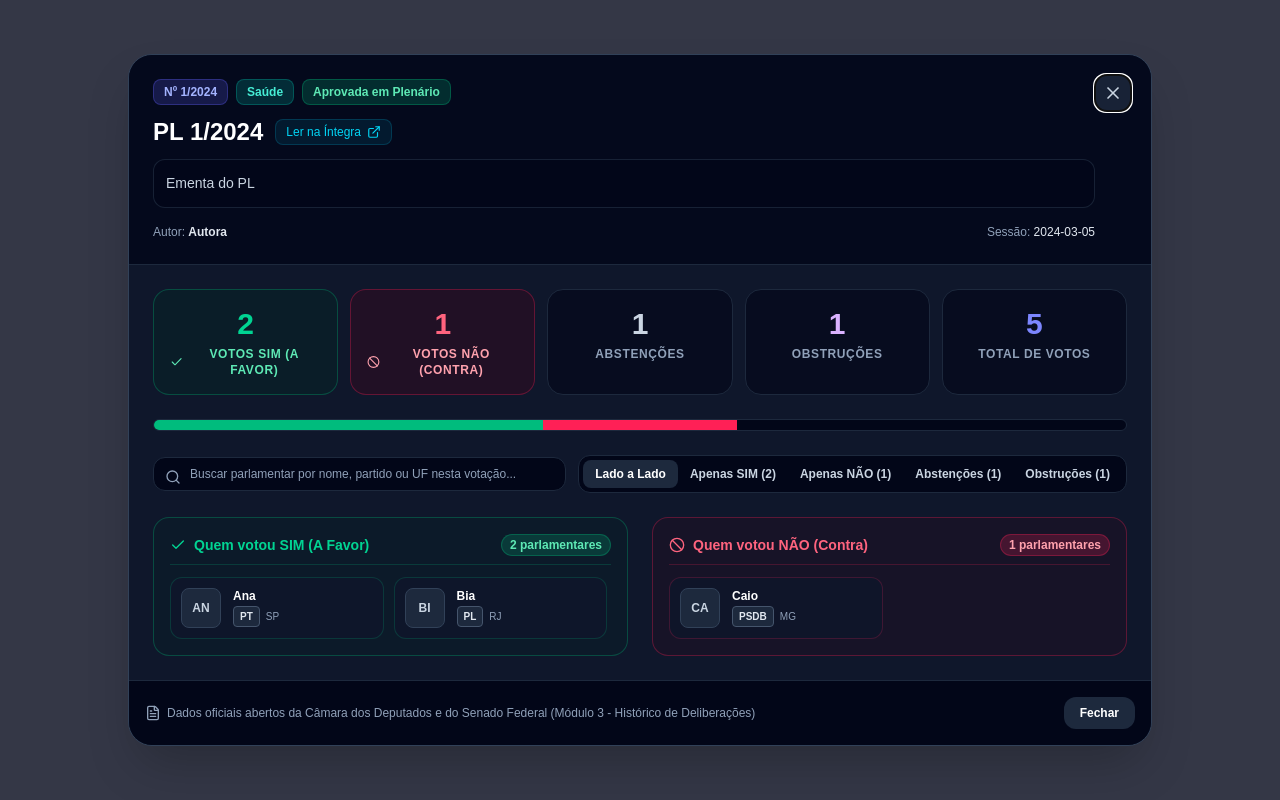
Test: PropositionVoteModal › exibe abstenções e obstruções nas abas próprias (não são descartadas)
Expected: the heading "Quem votou SIM (A Favor)" is shown, x1=170 y1=535 x2=369 y2=555
Click the button "Abstenções (1)" at {"x": 958, "y": 474}, box x1=903 y1=460 x2=1013 y2=488
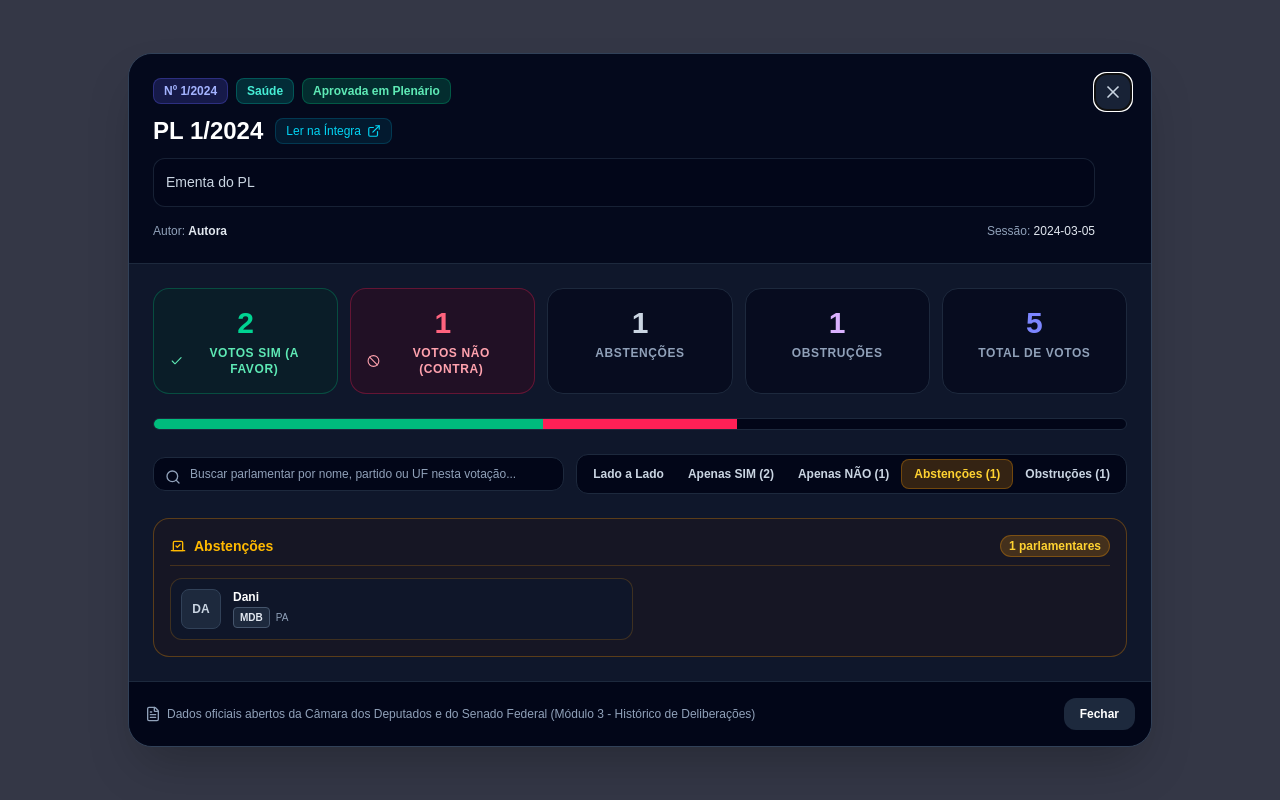
Result: the text "Dani" is shown at x1=233 y1=590 x2=259 y2=604
Result: the text "Ana" is gone
Click the button "Obstruções (1)" at {"x": 1068, "y": 474}, box x1=1013 y1=459 x2=1122 y2=489
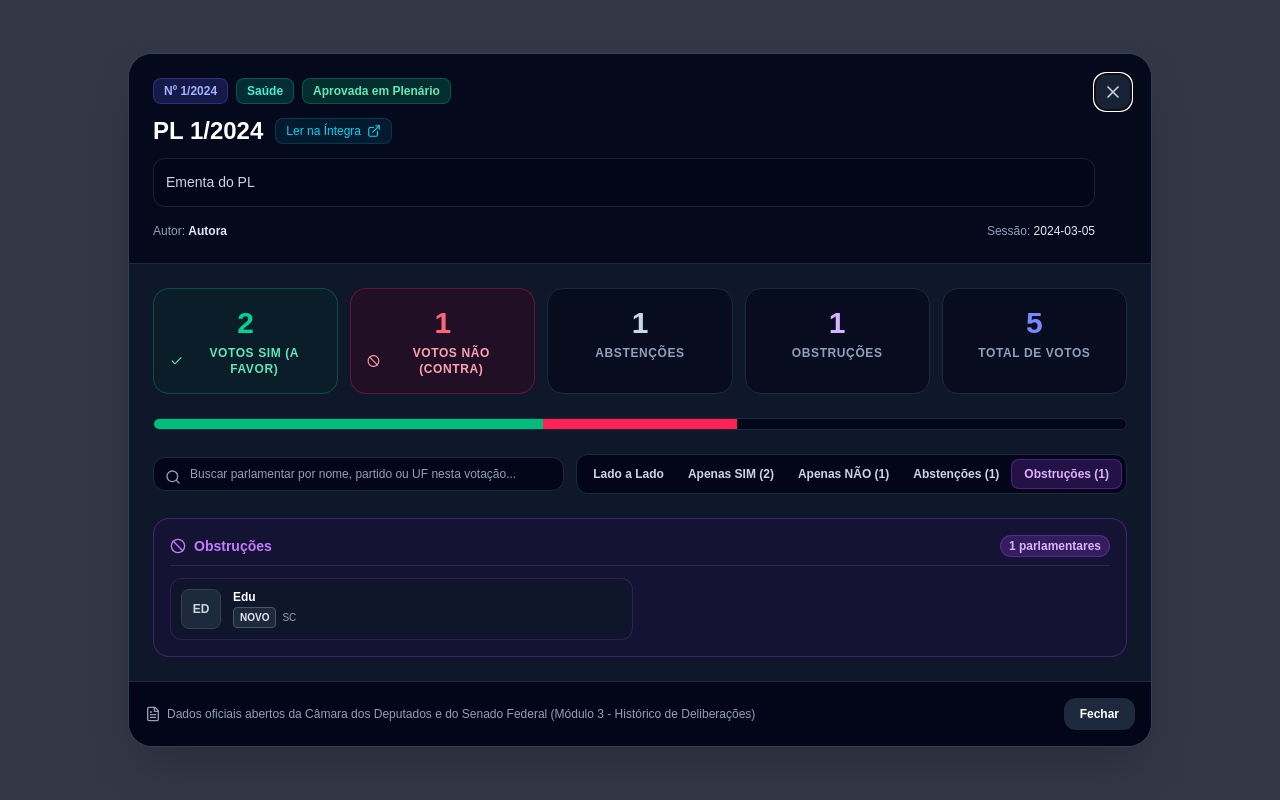
Result: the text "Edu" is shown at x1=233 y1=590 x2=256 y2=604
